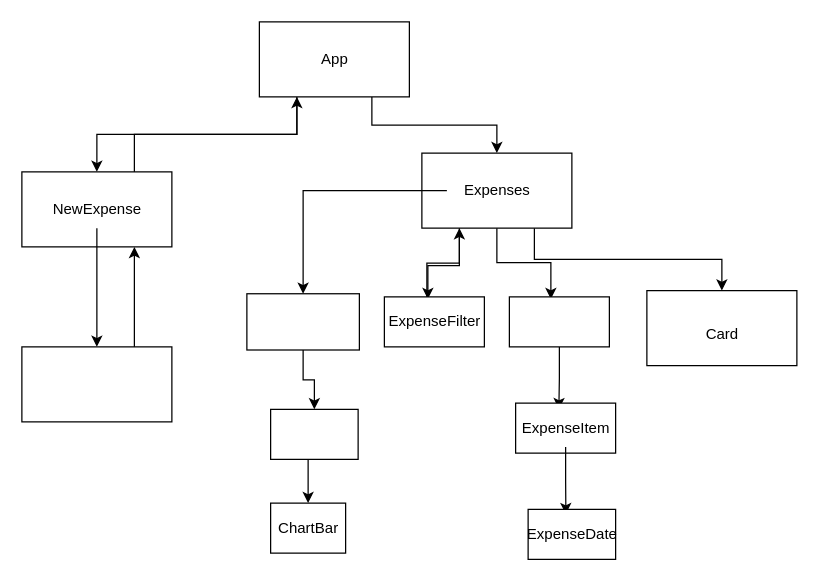
Some shapes in this 819 by 581 pixel diagram are drawn without their labels. The shapes that lost their labels are listed below. From the top down, each one's centre as x and y in pixels, then its label:
point 302,321: ExpensesChart
point 558,321: ExpenseList
point 96,384: ExpenseForm
point 313,433: Chart
